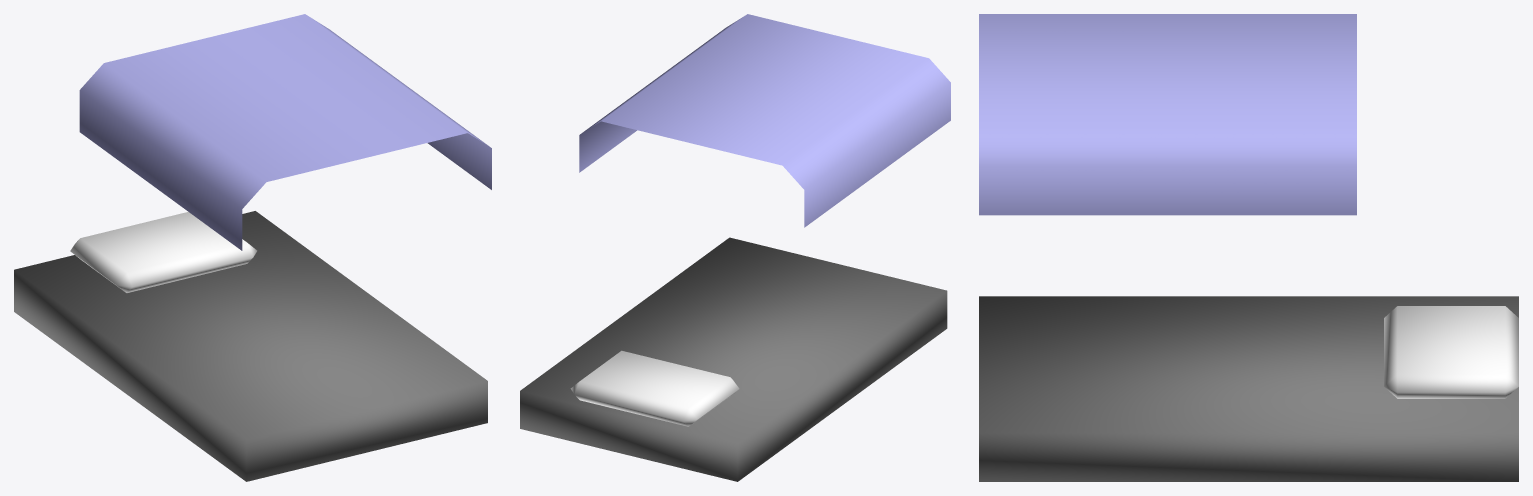
Rendered from bed.fbx.
3 renders of one model, left to right at view 1: azimuth 30°, elevation 25°; view 2: azimuth 150°, elevation 25°; view 3: azimuth 270°, elevation 25°, orthographic. The views are drawn at different scales.
Visible parts, largest first — view 1: Bed; view 2: Bed; view 3: Bed.
Boxes of the visible parts, x1,y1,x2,y2 form: Bed: (14, 14, 491, 481); Bed: (520, 14, 950, 481); Bed: (979, 14, 1518, 481).
Size of the model in its own units: 124 by 140 by 200.
